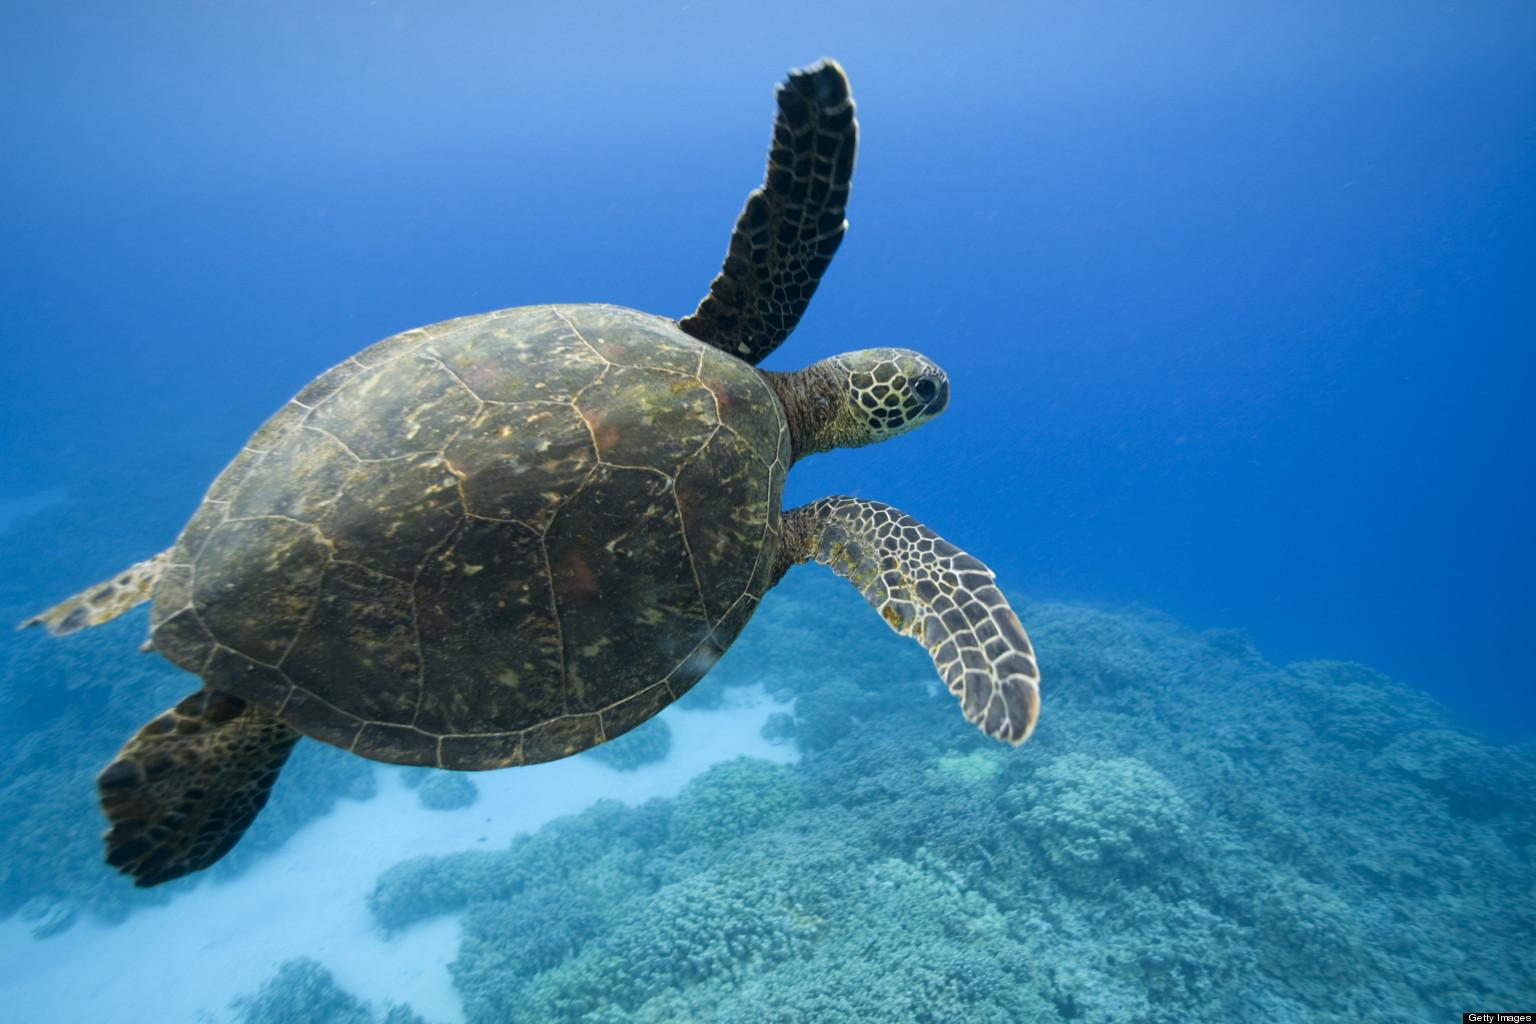turtle: (809, 326, 966, 464)
